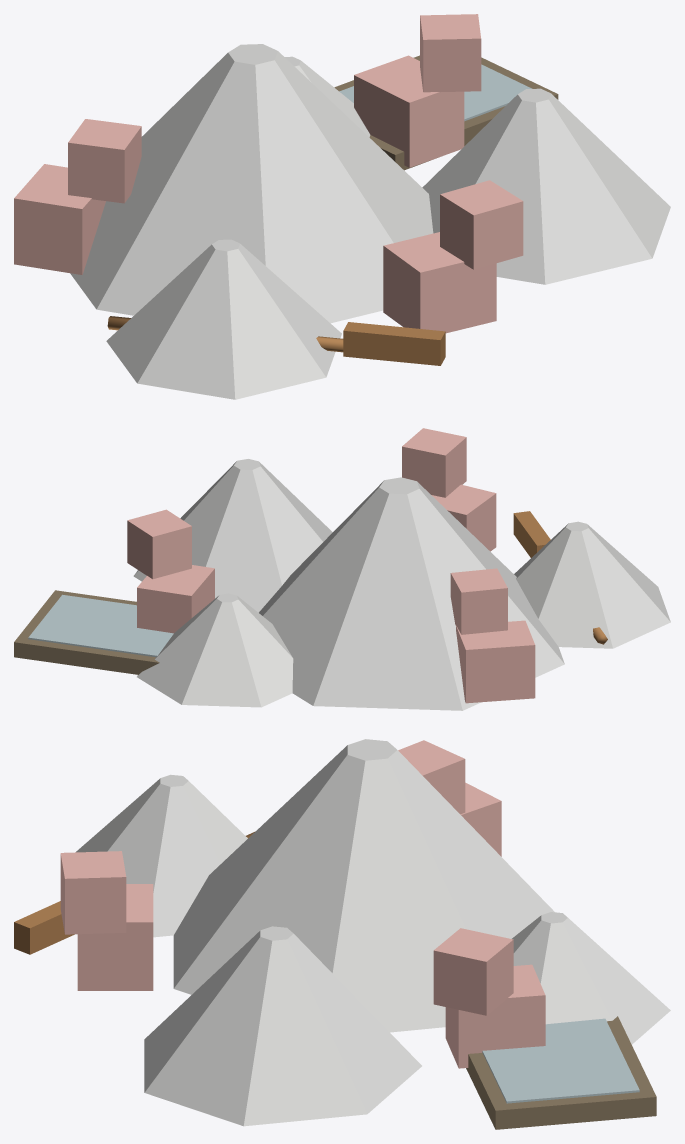
File: resource_salt.fbx
The picture shows the model from 3 angles, top to bottom: view 1: azimuth 30°, elevation 25°; view 2: azimuth 150°, elevation 25°; view 3: azimuth 270°, elevation 25°; orthographic projection. The views are drawn at different scales.
Visible parts, largest first — view 1: resource_salt_salt_00, resource_salt_pinksalt_01, resource_salt_wood#b08050.002_04, resource_salt_saltpan_03, resource_salt_panrim_02; view 2: resource_salt_salt_00, resource_salt_pinksalt_01, resource_salt_saltpan_03, resource_salt_panrim_02, resource_salt_wood#b08050.002_04; view 3: resource_salt_salt_00, resource_salt_pinksalt_01, resource_salt_saltpan_03, resource_salt_panrim_02, resource_salt_wood#b08050.002_04.
Part boxes in pixels (bbox=[...]): resource_salt_salt_00: bbox=[70, 44, 670, 399]; resource_salt_pinksalt_01: bbox=[14, 14, 523, 333]; resource_salt_wood#b08050.002_04: bbox=[107, 316, 445, 365]; resource_salt_saltpan_03: bbox=[339, 64, 532, 121]; resource_salt_panrim_02: bbox=[334, 55, 558, 170]; resource_salt_salt_00: bbox=[133, 459, 670, 710]; resource_salt_pinksalt_01: bbox=[127, 428, 535, 703]; resource_salt_saltpan_03: bbox=[28, 594, 173, 657]; resource_salt_panrim_02: bbox=[14, 590, 159, 674]; resource_salt_wood#b08050.002_04: bbox=[513, 511, 607, 644]; resource_salt_salt_00: bbox=[76, 739, 670, 1126]; resource_salt_pinksalt_01: bbox=[60, 740, 545, 1068]; resource_salt_saltpan_03: bbox=[482, 1018, 639, 1103]; resource_salt_panrim_02: bbox=[466, 1016, 656, 1129]; resource_salt_wood#b08050.002_04: bbox=[14, 831, 255, 954].
Size of the model in its own units: 95.75 by 30 by 89.87.
